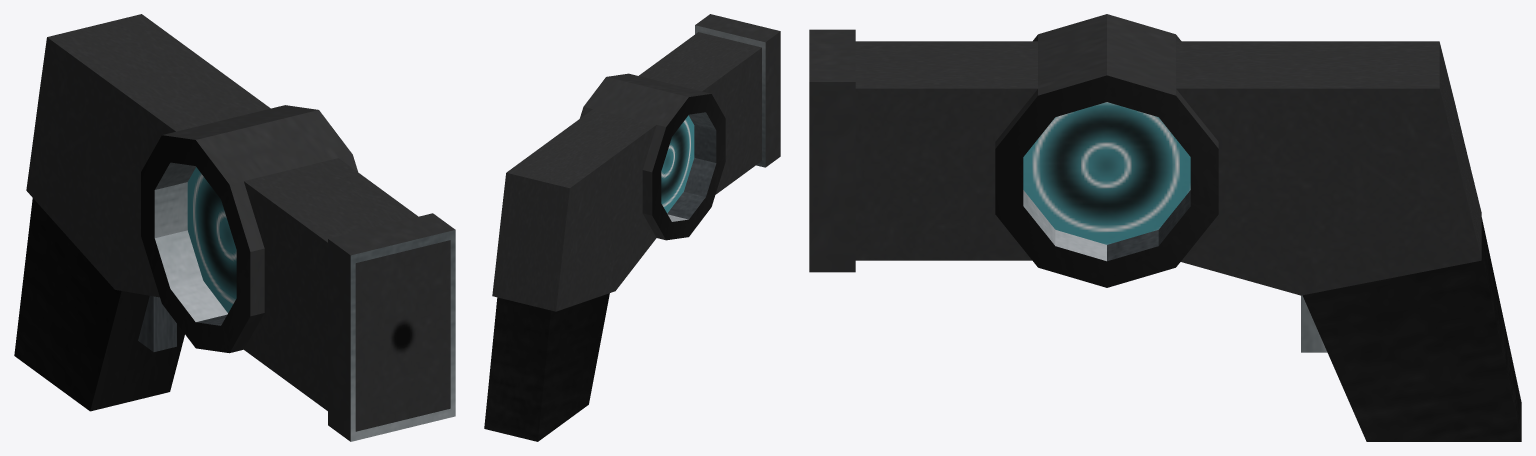
The model's file is grappling hook.fbx.
The picture shows the model from 3 angles, left to right: view 1: azimuth 30°, elevation 25°; view 2: azimuth 150°, elevation 25°; view 3: azimuth 270°, elevation 25°; orthographic projection. The views are drawn at different scales.
Visible parts, largest first — view 1: Grappling Hook; view 2: Grappling Hook; view 3: Grappling Hook.
Boxes of the visible parts, bbox=[...] form: Grappling Hook: bbox=[14, 14, 455, 441]; Grappling Hook: bbox=[484, 14, 780, 441]; Grappling Hook: bbox=[809, 14, 1521, 441].
Size of the model in its own units: 17.06 by 48.9 by 83.62.
1 material, 1 textured.
